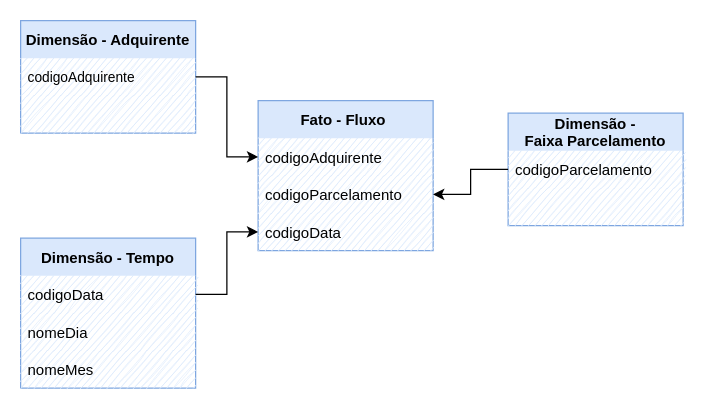
This 705x410 diagram has some shape labels left out. The centre of each missing label's shape, as x and y in pixels:
faixaParcelamento: the point at 595,206
nomeAdquirente: the point at 107,113
